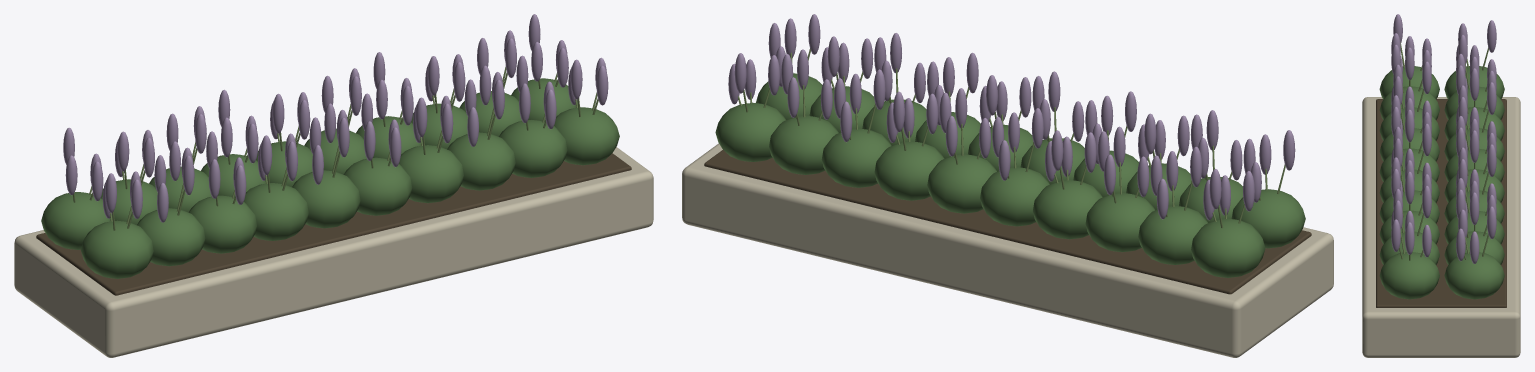
Rendered from lavender-bed.glb.
3 views of the same model, side by side, from view 1: azimuth 30°, elevation 25°; view 2: azimuth 150°, elevation 25°; view 3: azimuth 270°, elevation 25° (orthographic). The views are drawn at different scales.
Parts seen in each view (by area): view 1: lavender-bed; view 2: lavender-bed; view 3: lavender-bed.
Part boxes in pixels (x1,y1,x2,y2): lavender-bed: (14, 14, 653, 357); lavender-bed: (682, 14, 1333, 357); lavender-bed: (1362, 14, 1520, 357).
Bounding box in the file's own units: 3.6 × 1.05 × 1.1.
